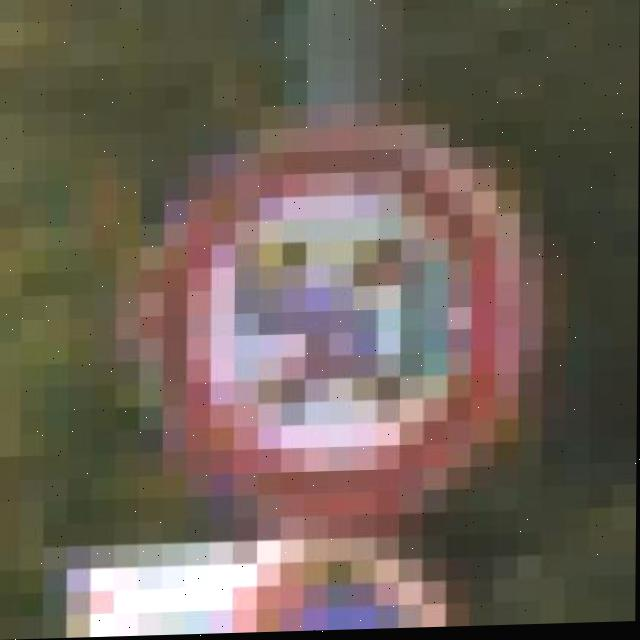Speed limit 50: (149, 115, 525, 516)
